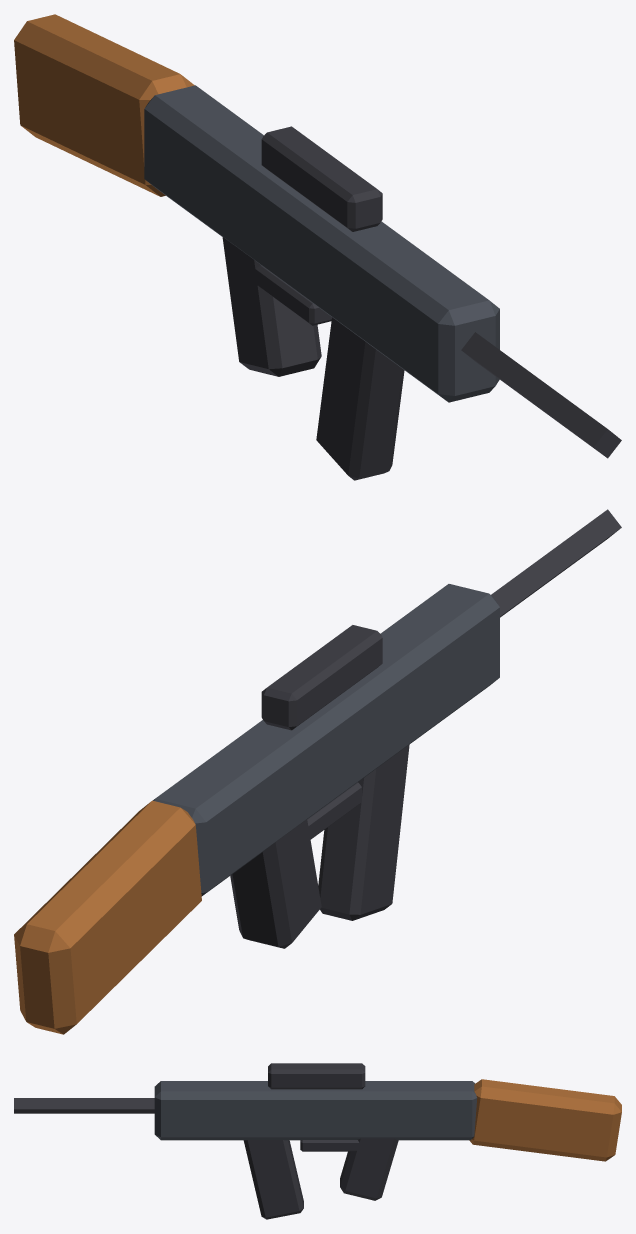
Rendered from AssaultRifle.fbx.
The picture shows the model from 3 angles, top to bottom: view 1: azimuth 30°, elevation 25°; view 2: azimuth 150°, elevation 25°; view 3: azimuth 270°, elevation 25°; orthographic projection. The views are drawn at different scales.
Visible parts, largest first — view 1: AssaultRifle; view 2: AssaultRifle; view 3: AssaultRifle.
Boxes of the visible parts, <box> form: AssaultRifle: <box>14,14,621,480</box>; AssaultRifle: <box>14,509,621,1034</box>; AssaultRifle: <box>14,1063,621,1219</box>.
Size of the model in its own units: 0.35 by 1.52 by 5.62.
1 material, 1 textured.
